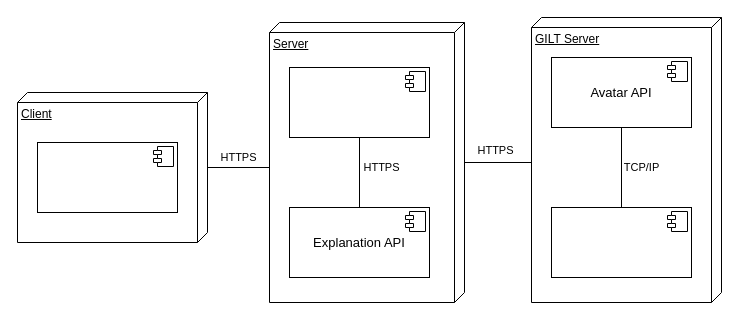
Some shapes in this 739 by 320 pixel diagram are drawn without their labels. Each missing label, with the centre of its shape:
"Avatar DB" belongs at [621,242].
"Explanation APP" belongs at [359,102].
"Web Browser" belongs at [107,177].
